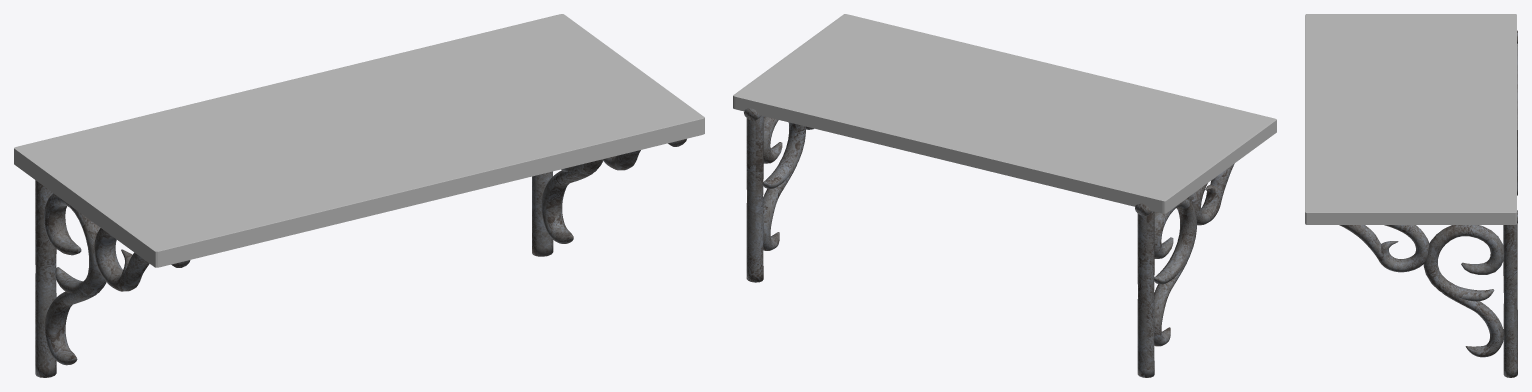
The model's file is Repisa.fbx.
The picture shows the model from 3 angles, left to right: view 1: azimuth 30°, elevation 25°; view 2: azimuth 150°, elevation 25°; view 3: azimuth 270°, elevation 25°; orthographic projection. The views are drawn at different scales.
Parts seen in each view (by area): view 1: Repisa, Repisa.001; view 2: Repisa, Repisa.001; view 3: Repisa, Repisa.001.
Boxes of the visible parts, bbox=[...] form: Repisa: bbox=[14, 14, 704, 267]; Repisa.001: bbox=[35, 139, 686, 377]; Repisa: bbox=[733, 14, 1276, 213]; Repisa.001: bbox=[744, 108, 1234, 377]; Repisa: bbox=[1305, 14, 1516, 224]; Repisa.001: bbox=[1339, 30, 1517, 377].
Bounding box in the file's own units: 796 × 318 × 360.
